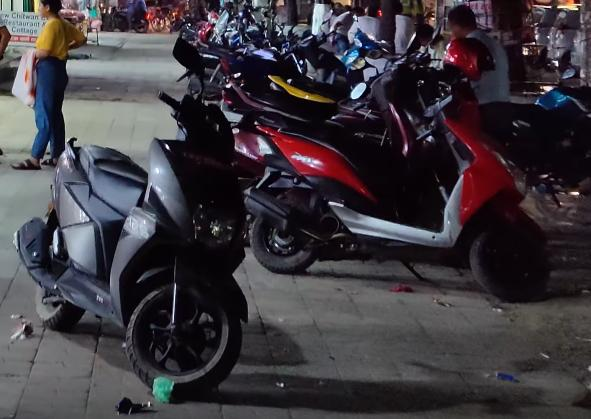scooter: (11, 89, 251, 402), (244, 78, 554, 304)
